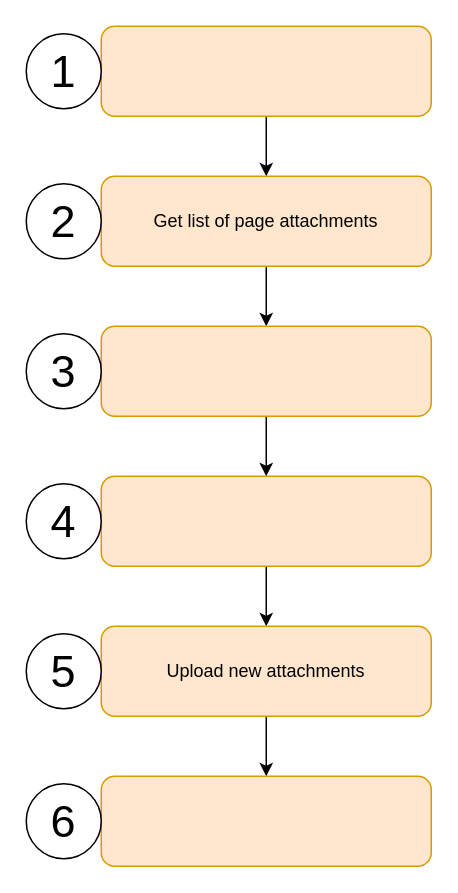
Image size: 458x893. Some labels were removed from this diagram. The box of each missing label's shape, as (x1, y1, x2, y2) in pixels:
Compute attachments: (100, 475, 431, 566)
Delete unused attachments: (100, 775, 431, 866)
Get current page META information: (100, 25, 431, 116)
Upload page content: (100, 325, 431, 416)
